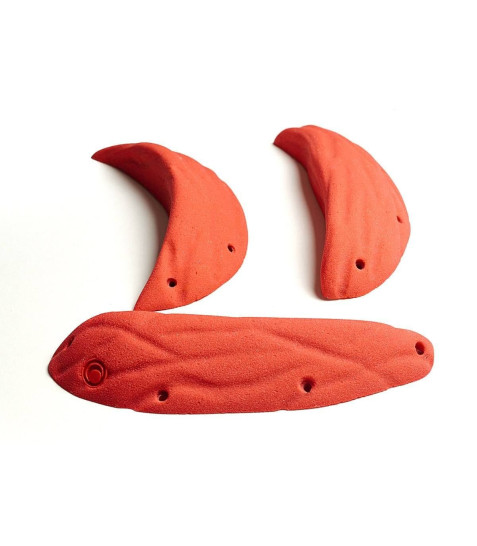hold: (54, 312, 431, 412), (91, 142, 245, 311), (274, 125, 408, 298)
